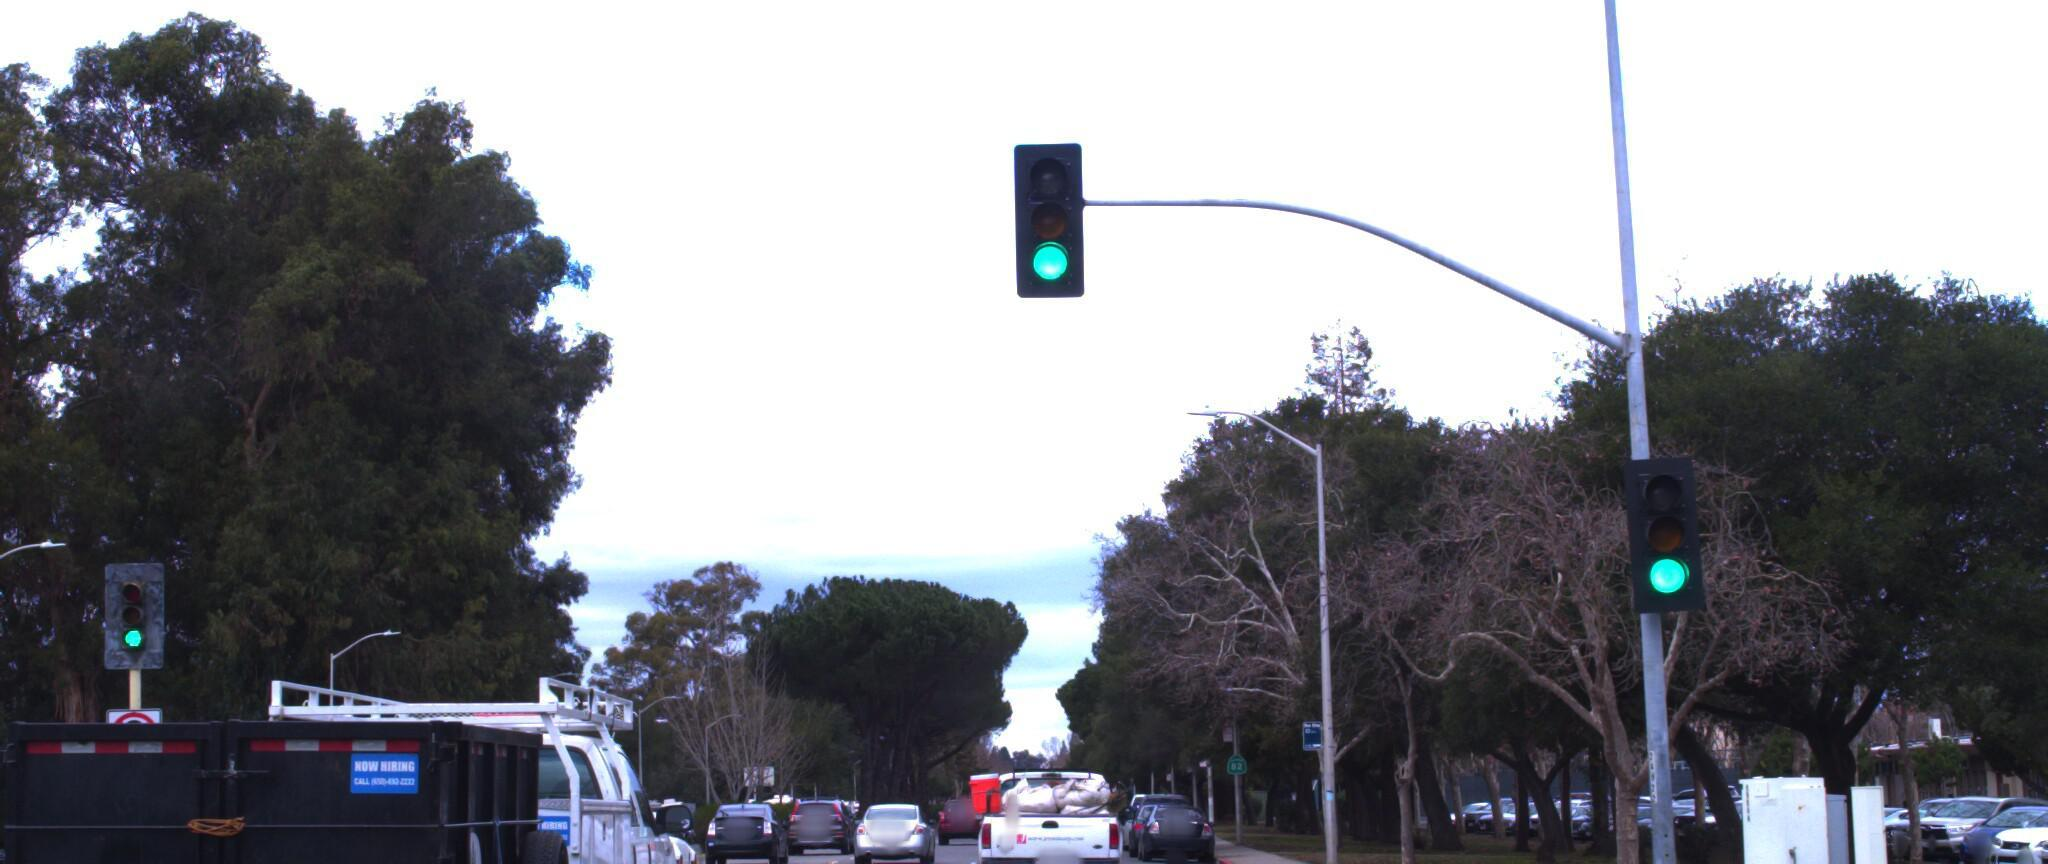bus: (0, 720, 8, 864)
car: (0, 591, 718, 864), (965, 736, 1132, 864), (697, 784, 795, 854), (840, 777, 934, 846), (1127, 777, 1213, 841), (2000, 761, 2048, 864), (1997, 801, 2048, 864)
